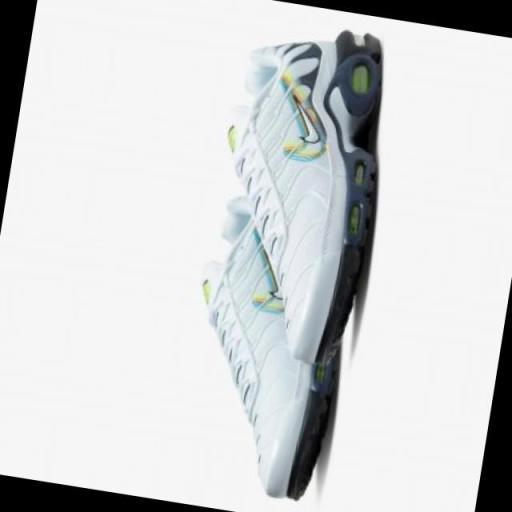Nike: (286, 94, 328, 144)
